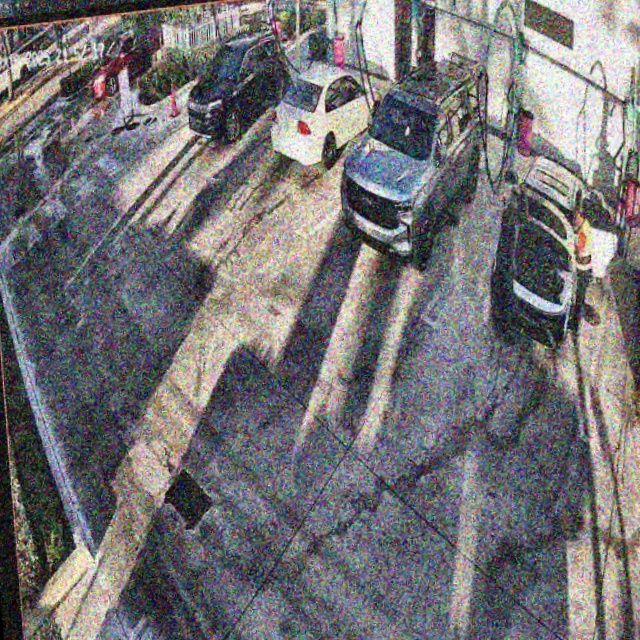Car: (332, 56, 488, 272), (267, 57, 386, 170)
